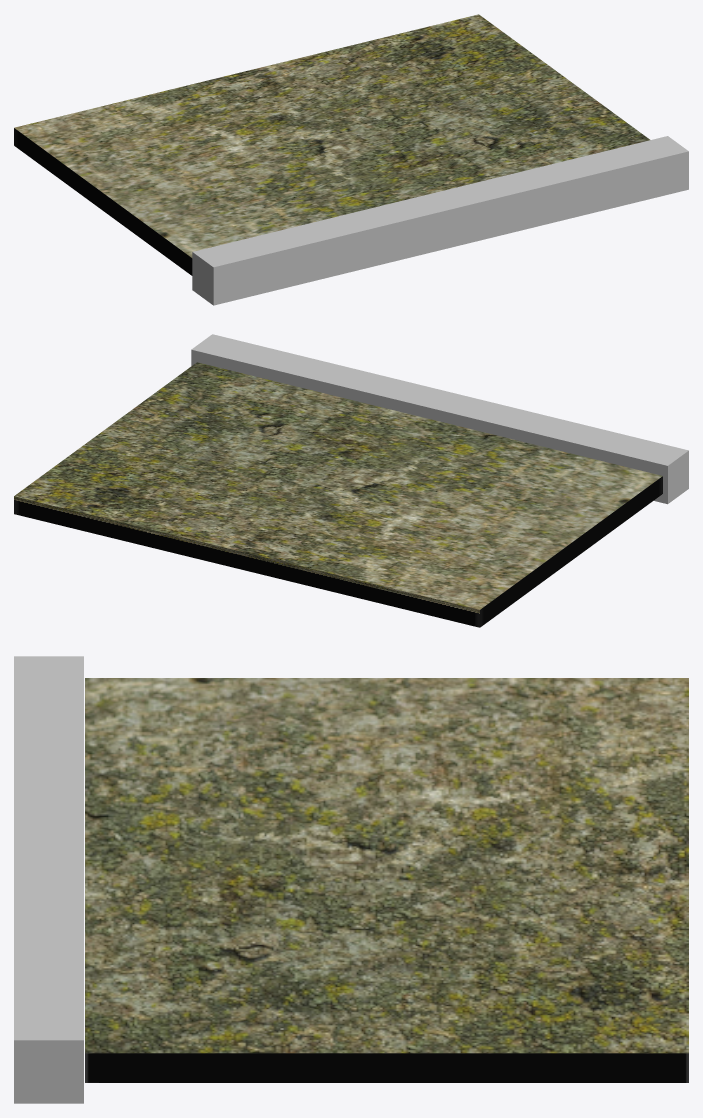
File: trap door v2.fbx
3 views of the same model, one above another, from view 1: azimuth 30°, elevation 25°; view 2: azimuth 150°, elevation 25°; view 3: azimuth 270°, elevation 25° (orthographic). The views are drawn at different scales.
Parts seen in each view (by area): view 1: door_flap_left, wedge; view 2: door_flap_left, wedge; view 3: door_flap_left, wedge.
Boxes of the visible parts, x1,y1,x2,y2 form: door_flap_left: [14, 14, 649, 275]; wedge: [192, 136, 688, 305]; door_flap_left: [14, 362, 662, 627]; wedge: [191, 334, 688, 504]; door_flap_left: [85, 678, 688, 1082]; wedge: [14, 656, 83, 1103].
Bounding box in the file's own units: 13 × 1 × 9.66.
